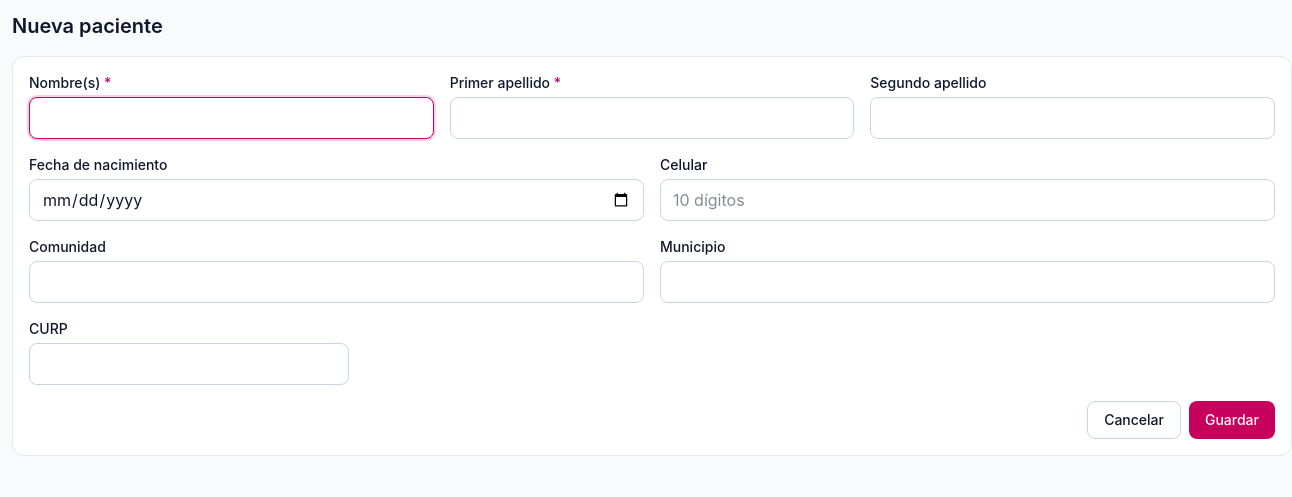
Test case: NuevaPaciente › pide los campos obligatorios
The image size is (1292, 497).
Click the button "Guardar".
click(1232, 420)  # box [1189,401,1275,439]
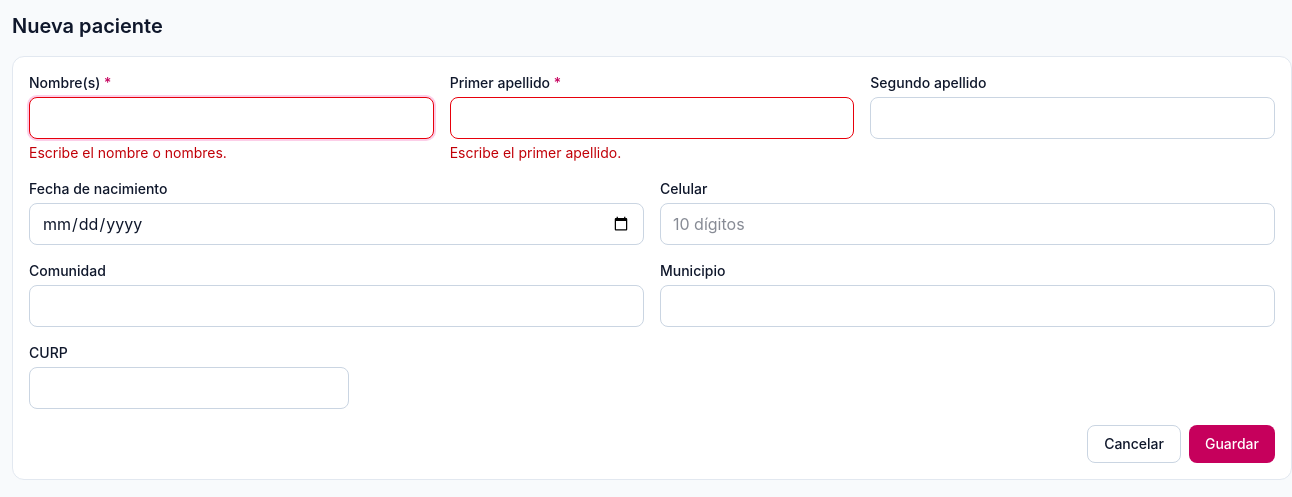
Expected: the text "Escribe el nombre o nombres." is shown, [29,144,227,161]
Expected: the text "Escribe el primer apellido." is shown, [450,144,621,161]
